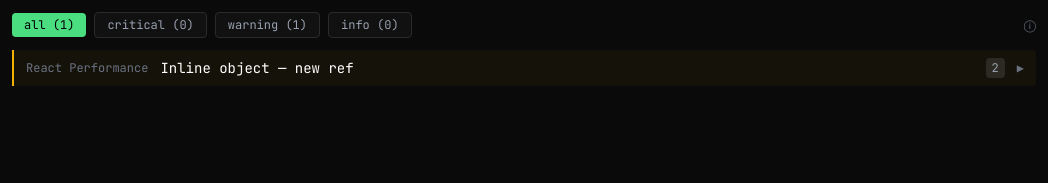
Test: IssuesList › expands a group to show individual issues when clicked
Click the text "Inline object — new ref".
click(257, 68)  # box 160,59 -> 354,77
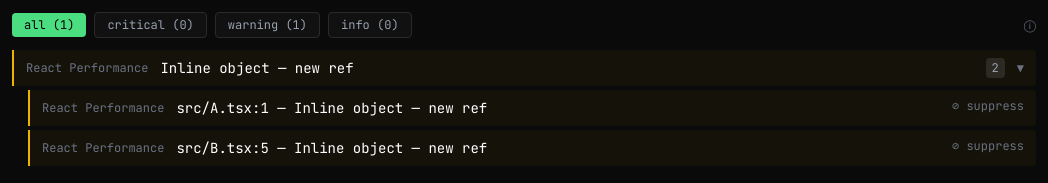
Expected: the text "src/A.tsx:1 — Inline object — new ref" is shown, 176,99 -> 487,117
Expected: the text "src/B.tsx:5 — Inline object — new ref" is shown, 176,139 -> 487,157
